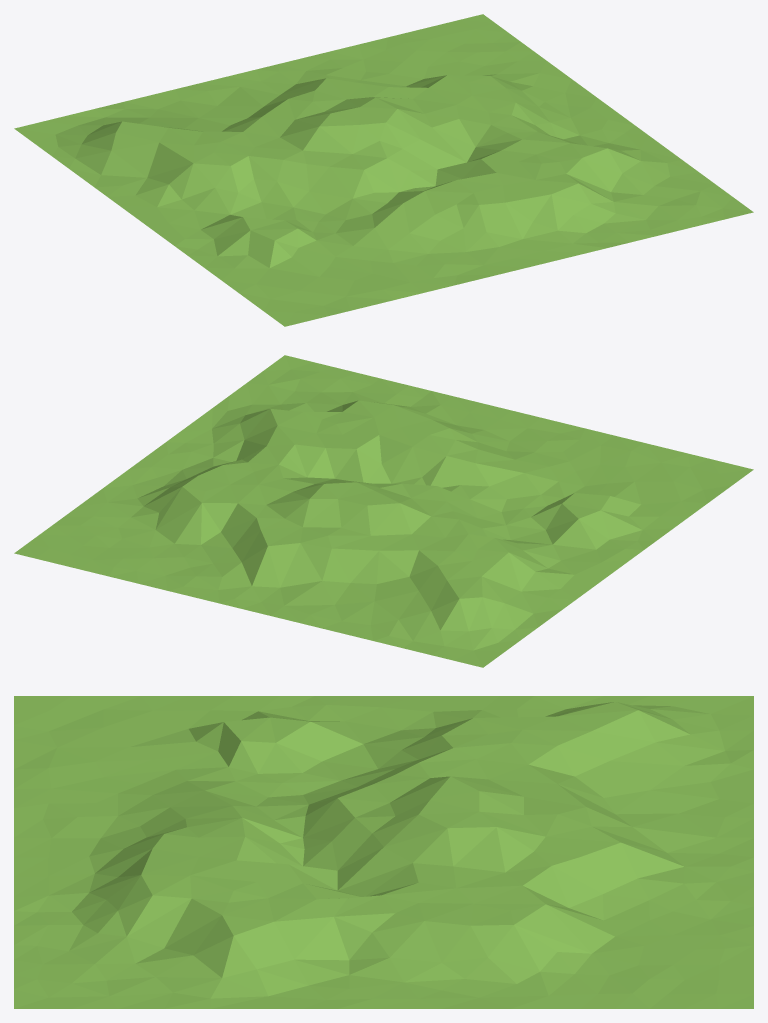
File: MT_Terrain_M_d_08_LOD.fbx
The picture shows the model from 3 angles, top to bottom: view 1: azimuth 30°, elevation 25°; view 2: azimuth 150°, elevation 25°; view 3: azimuth 270°, elevation 25°; orthographic projection. The views are drawn at different scales.
Visible parts, largest first — view 1: MT_Terrain_M_d_08_LOD0; view 2: MT_Terrain_M_d_08_LOD0; view 3: MT_Terrain_M_d_08_LOD0.
Boxes of the visible parts, x1,y1,x2,y2 form: MT_Terrain_M_d_08_LOD0: (14,14,753,326); MT_Terrain_M_d_08_LOD0: (14,355,753,667); MT_Terrain_M_d_08_LOD0: (14,696,753,1008).
Size of what is drawn, in the model's own units: 5000 by 380 by 5000.
